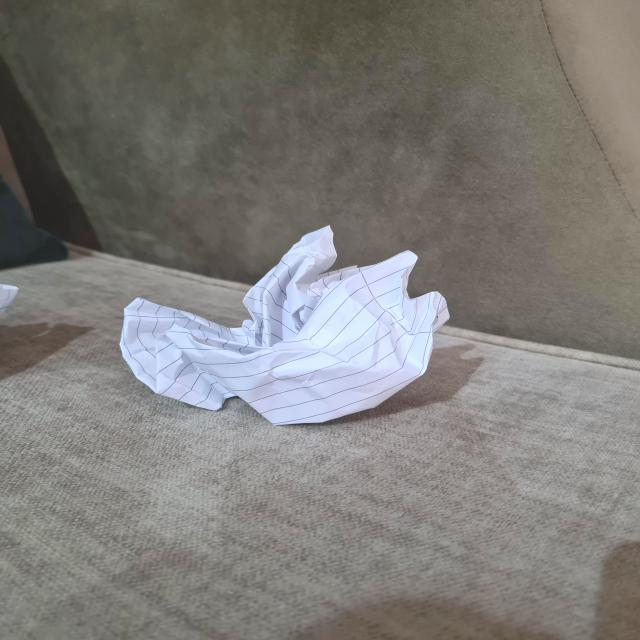Paper: (120, 216, 443, 421)
